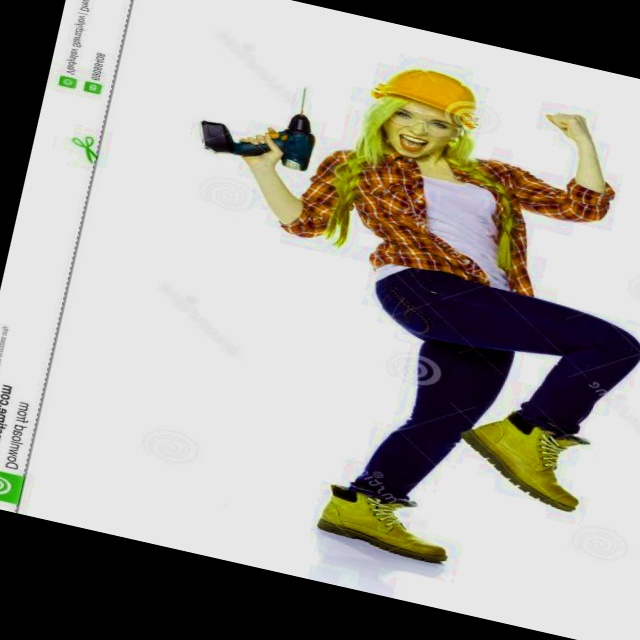Con_Casco: (365, 60, 486, 170)
